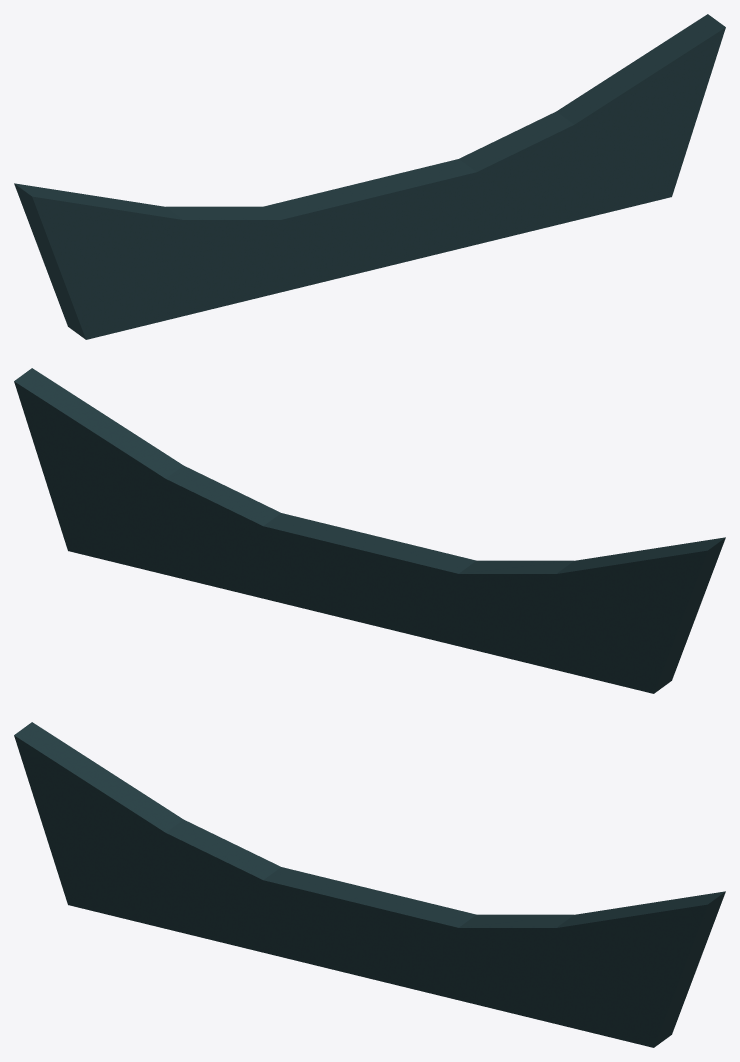
3 renders of one model, top to bottom at view 1: azimuth 30°, elevation 25°; view 2: azimuth 150°, elevation 25°; view 3: azimuth 330°, elevation 25°, orthographic.
Visible parts, largest first — view 1: Cube.523_Baked; view 2: Cube.523_Baked; view 3: Cube.523_Baked.
Boxes of the visible parts, box(x1,y1,x2,y2) form: Cube.523_Baked: box(14, 14, 725, 339); Cube.523_Baked: box(14, 368, 725, 693); Cube.523_Baked: box(14, 722, 725, 1047).
Bounding box in the file's own units: 1293 × 279 × 58.44.
